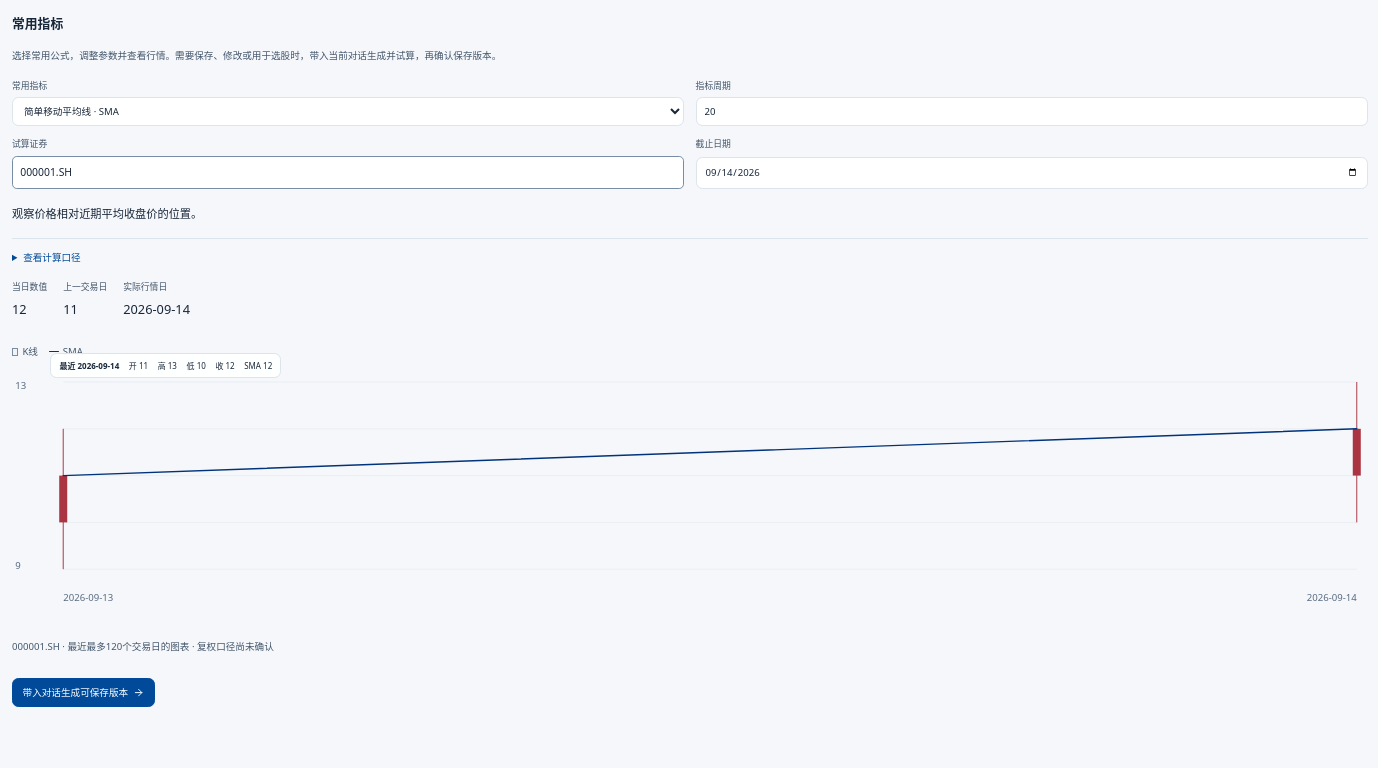
it: previews fixed formulas with the shared security/date and switches between price and indicator panes
The width and height of the screenshot is (1378, 768).
Expected: the picture named "K线主图叠加指标走势" is shown, [12, 366, 1368, 604]
Select "相对强弱指标 · RSI" in the dropdown labelled "常用指标" at coordinates (348, 112), box [12, 97, 684, 126]
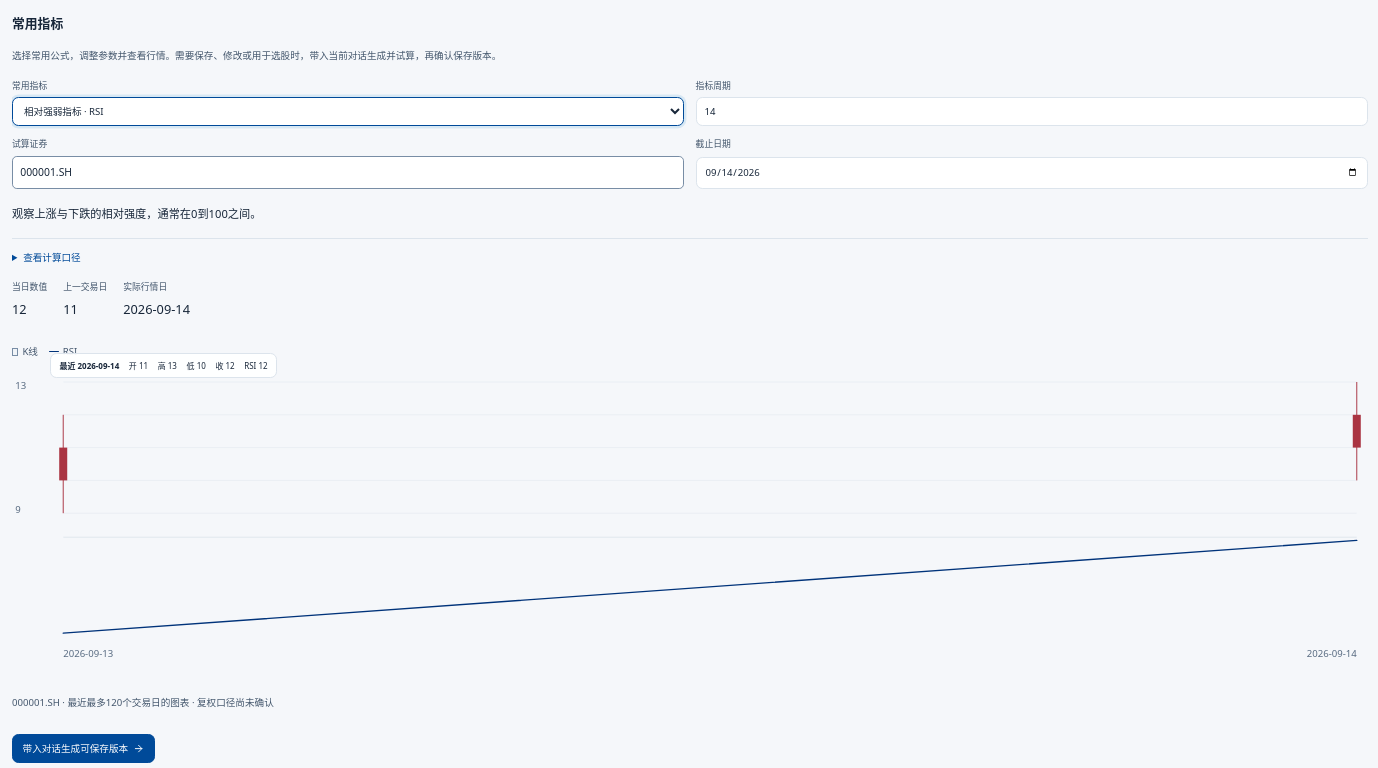
Now the picture named "K线主图和指标副图走势" is shown, box [12, 366, 1368, 660]
Now the number field named "常用指标周期" holds "14", box [696, 97, 1368, 126]
Select "布林带 · BOLLINGER" in the dropdown labelled "常用指标" at coordinates (348, 112), box [12, 97, 684, 126]
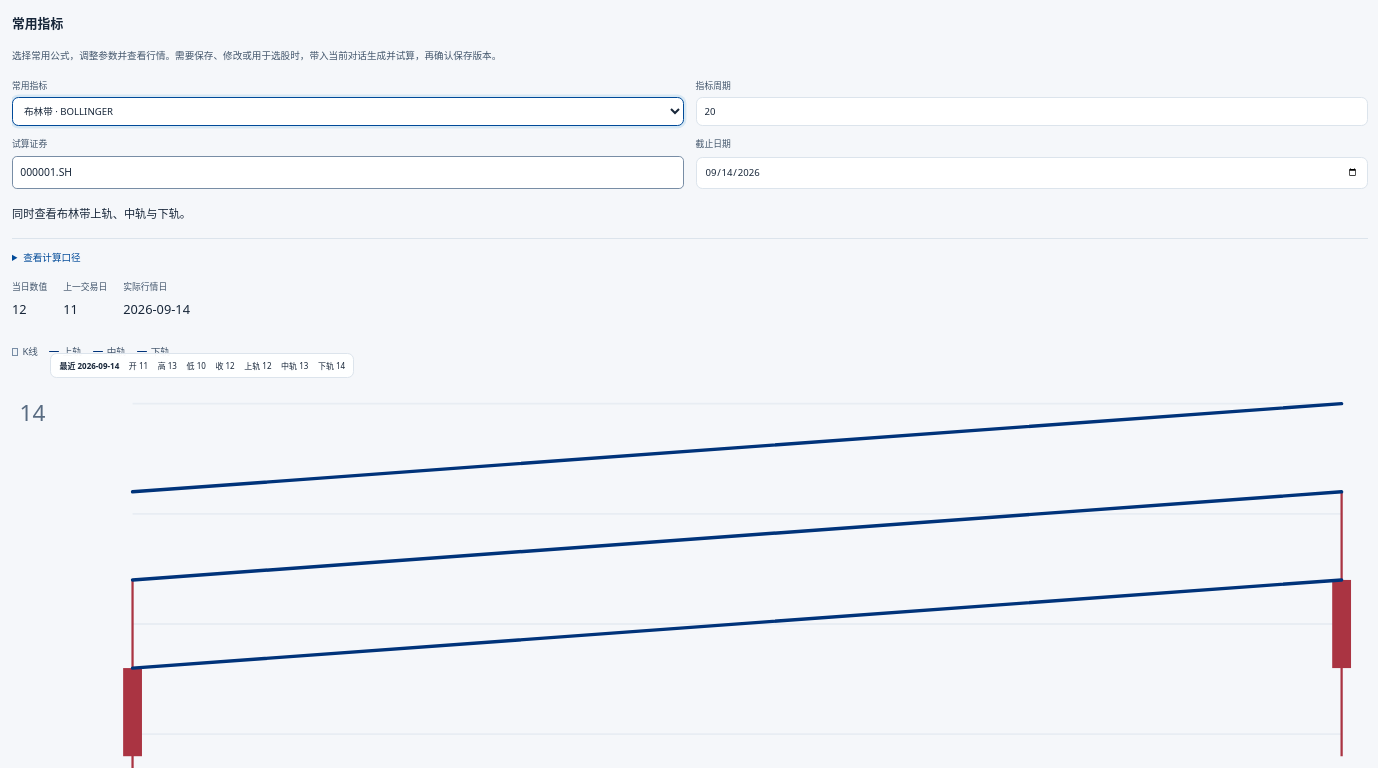
Now the text "上轨" is shown, box [49, 344, 82, 359]
Now the text "中轨" is shown, box [93, 344, 126, 359]
Now the text "下轨" is shown, box [137, 344, 170, 359]
